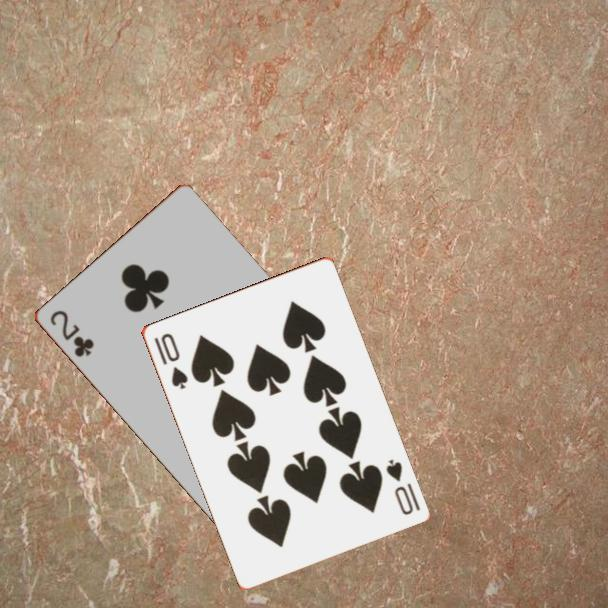c02: (46, 306, 97, 360)
s10: (382, 456, 423, 518), (150, 329, 190, 392)
